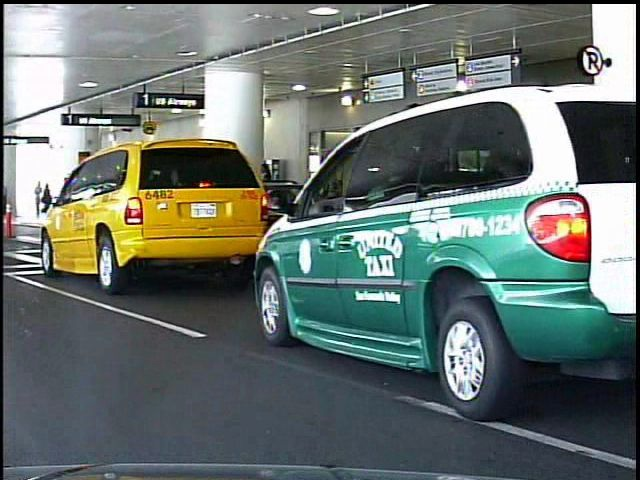person: (44, 179, 58, 220), (1, 183, 14, 218), (36, 180, 46, 219)
